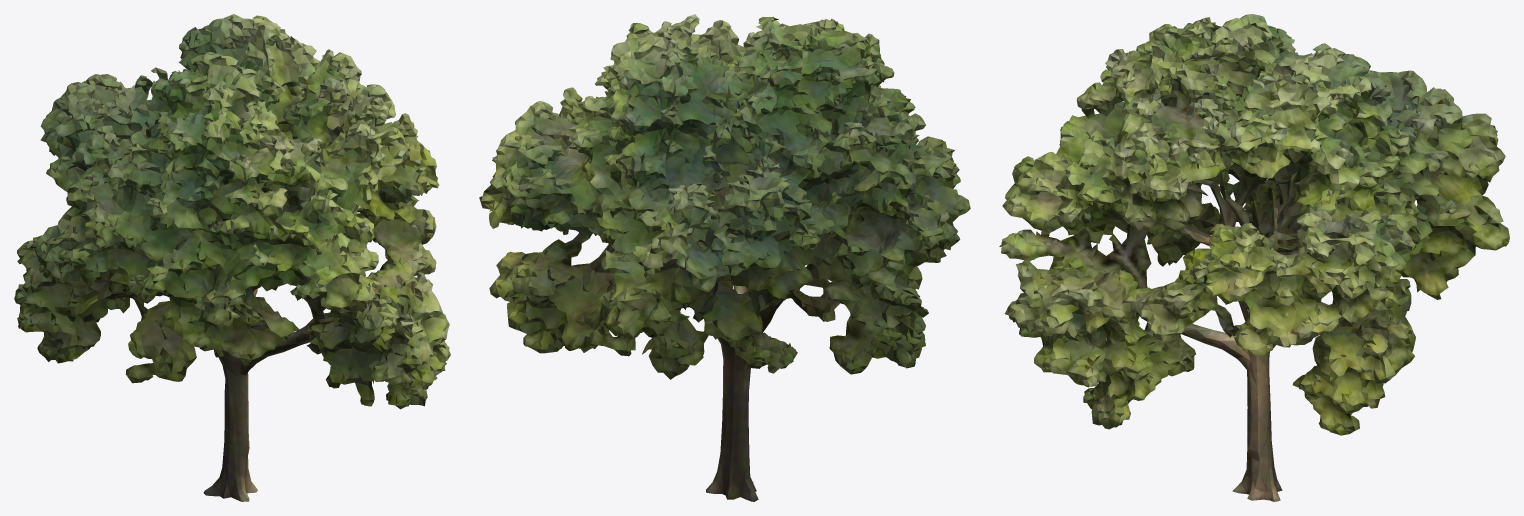
The model's file is lindenstadt-tree.glb.
3 renders of one model, left to right at view 1: azimuth 30°, elevation 25°; view 2: azimuth 150°, elevation 25°; view 3: azimuth 270°, elevation 25°, orthographic. The views are drawn at different scales.
Visible parts, largest first — view 1: world; view 2: world; view 3: world.
Boxes of the visible parts, x1,y1,x2,y2 form: world: (14,14,450,501); world: (479,14,970,501); world: (999,14,1509,501).
Size of the model in its own units: 0.9075 by 0.9964 by 0.9994.
Materials: 1 (1 with a texture image).
